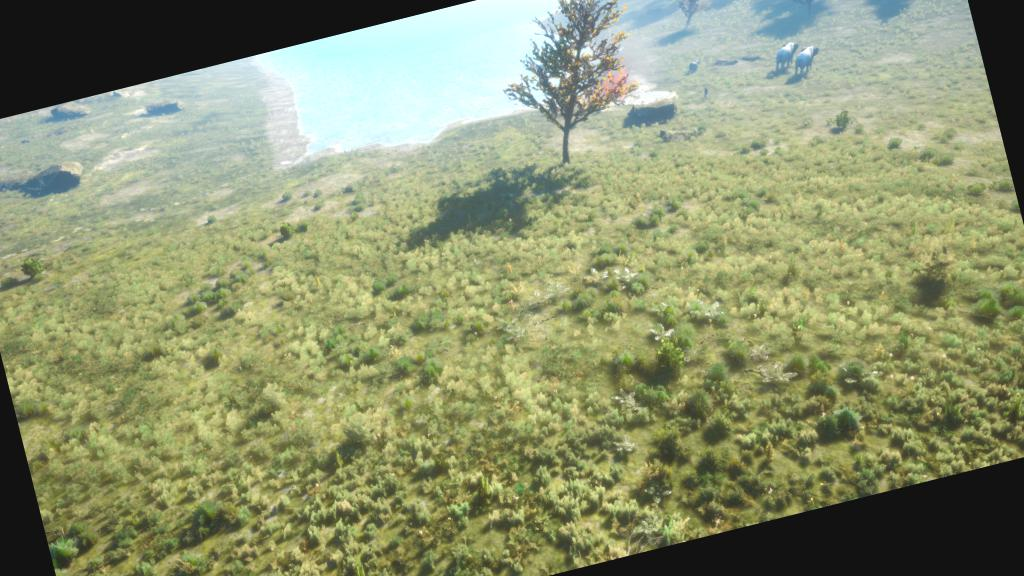Fire: (598, 65, 634, 105)
elephant: (768, 37, 802, 73), (792, 44, 824, 72), (686, 56, 705, 74)
human: (701, 87, 711, 100)
